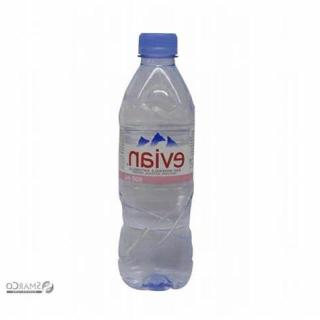Anorganik: (102, 22, 203, 296)
